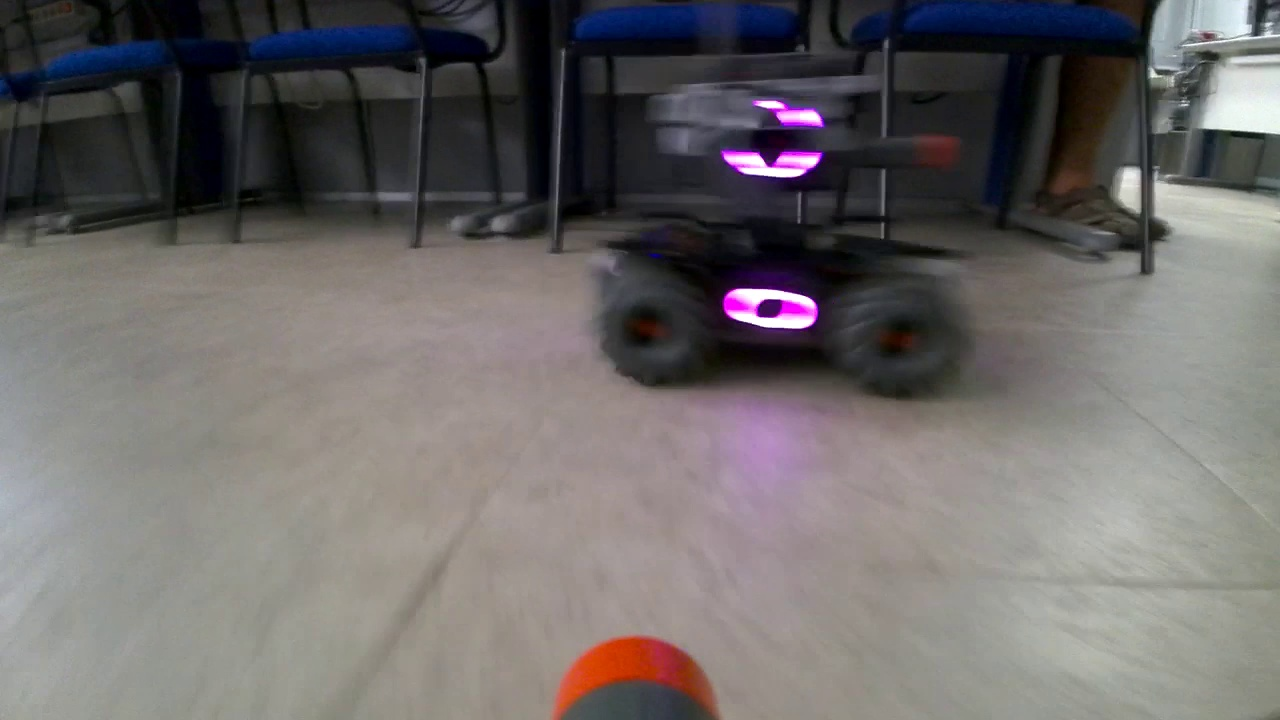robot: (588, 65, 972, 395)
